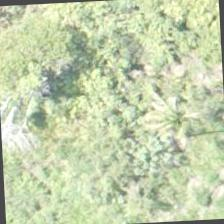Kelapa_Sawit: (126, 77, 221, 172)
